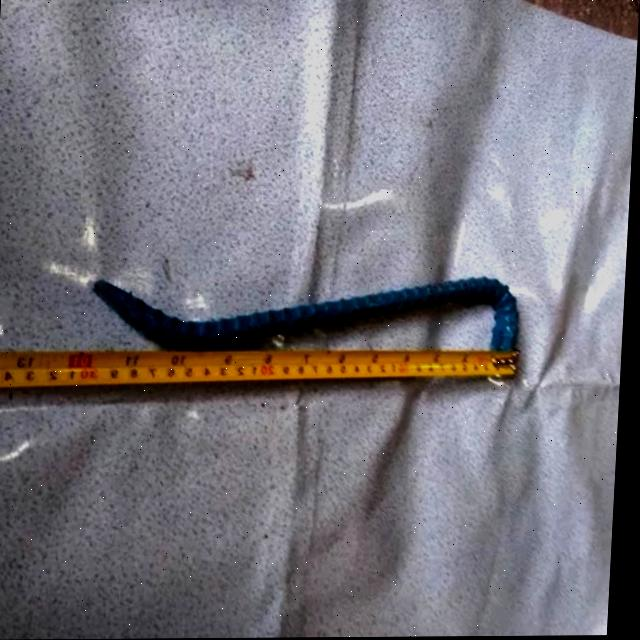crow bar: (93, 278, 521, 350)
